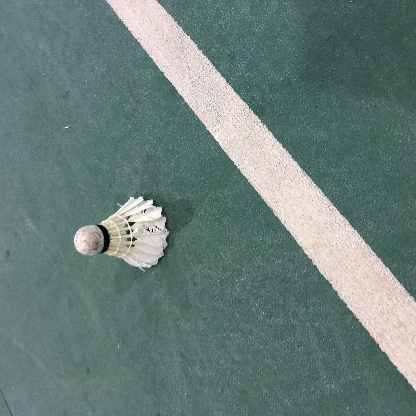ball_single: (74, 196, 169, 268)
